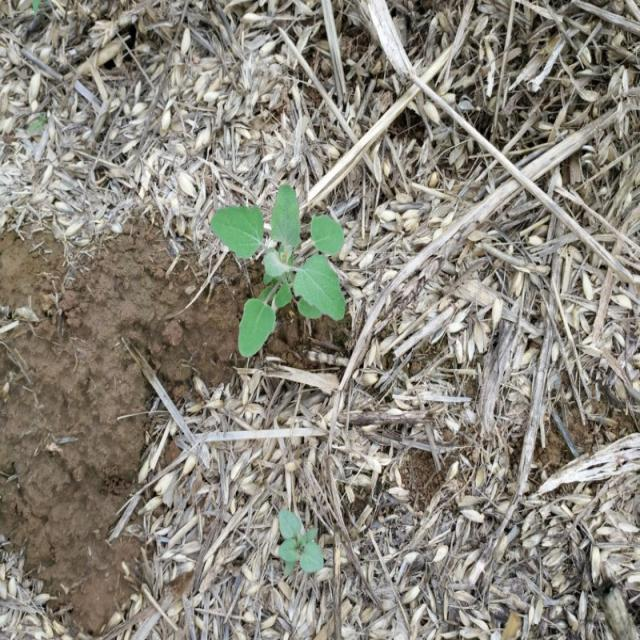goosefoots: (202, 180, 376, 347)
